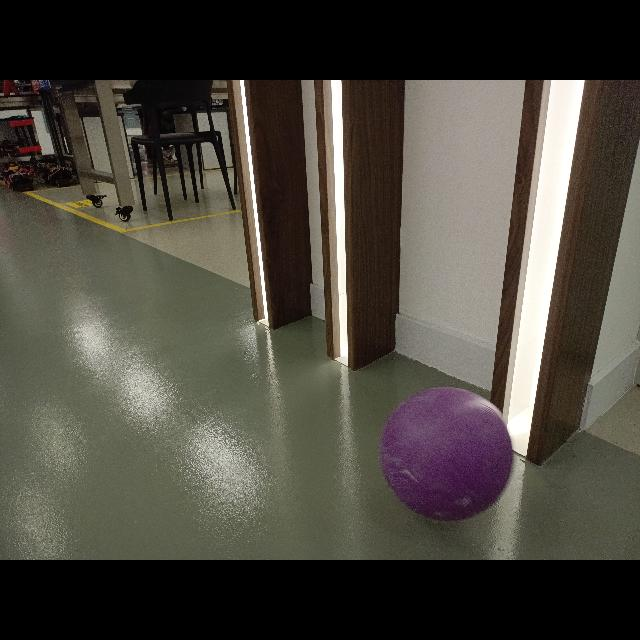P: (378, 386, 518, 522)
